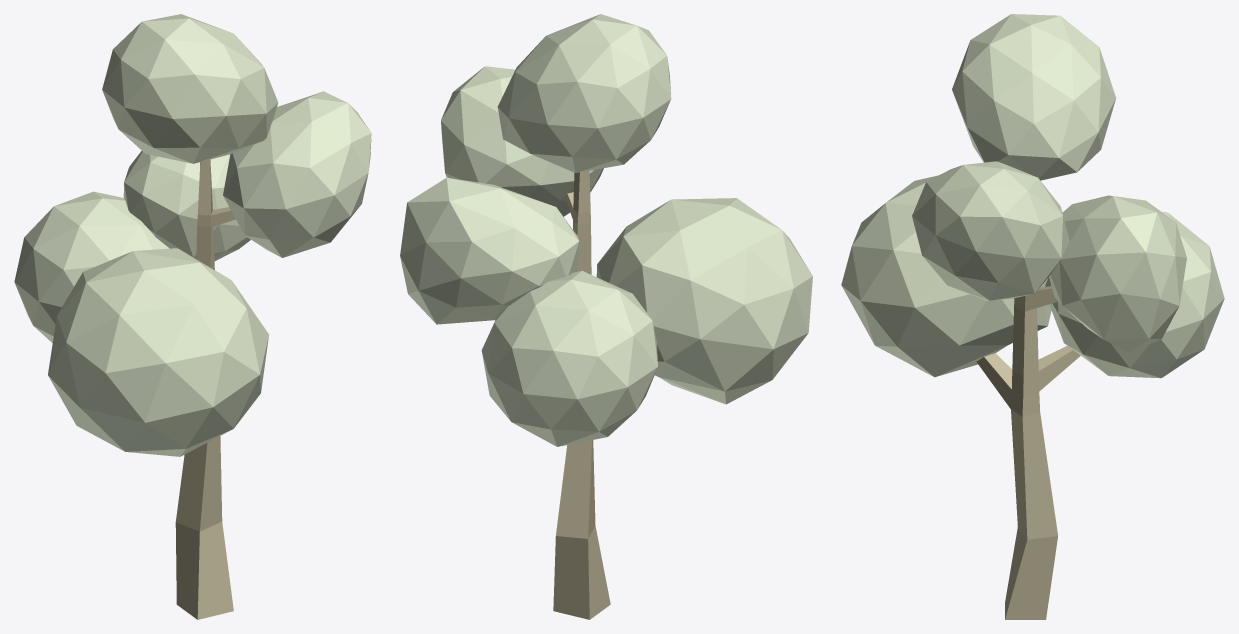
Rendered from OakTree2Light1.fbx.
3 renders of one model, left to right at view 1: azimuth 30°, elevation 25°; view 2: azimuth 150°, elevation 25°; view 3: azimuth 270°, elevation 25°, orthographic. The views are drawn at different scales.
Parts seen in each view (by area): view 1: OakTree2; view 2: OakTree2; view 3: OakTree2.
Boxes of the visible parts, x1,y1,x2,y2 form: OakTree2: (14, 14, 371, 619); OakTree2: (400, 14, 812, 619); OakTree2: (841, 14, 1224, 619).
Size of the model in its own units: 427 by 763 by 458.
